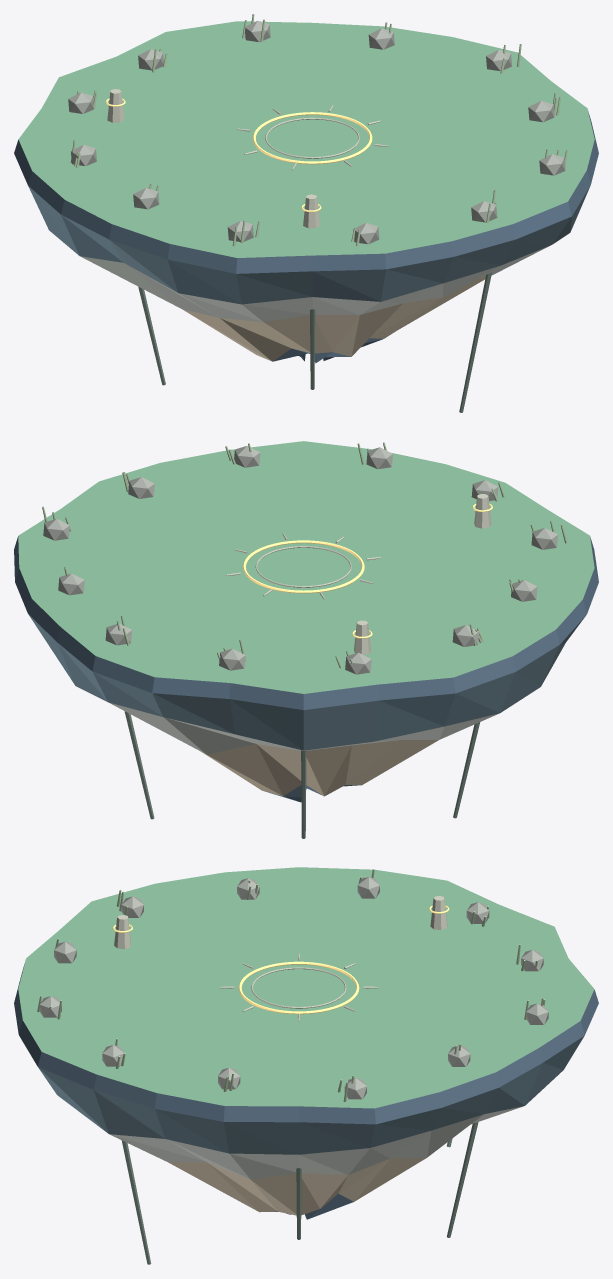
Rendered from island_0.glb.
3 renders of one model, top to bottom at view 1: azimuth 30°, elevation 25°; view 2: azimuth 150°, elevation 25°; view 3: azimuth 270°, elevation 25°, orthographic.
Parts seen in each view (by area): view 1: Walkable meadow, Layered floating bedrock, Island edge ornaments; view 2: Walkable meadow, Layered floating bedrock, Island edge ornaments; view 3: Walkable meadow, Layered floating bedrock, Island edge ornaments.
Part boxes in pixels (<box>): Walkable meadow: <box>18,21,594,257</box>; Layered floating bedrock: <box>14,111,598,363</box>; Island edge ornaments: <box>68,14,567,412</box>; Walkable meadow: <box>18,441,594,693</box>; Layered floating bedrock: <box>14,536,598,802</box>; Island edge ornaments: <box>42,442,567,838</box>; Walkable meadow: <box>18,867,594,1108</box>; Layered floating bedrock: <box>14,963,598,1219</box>; Island edge ornaments: <box>37,869,548,1264</box>.
Bounding box in the file's own units: 24.15 × 12.27 × 24.38.
